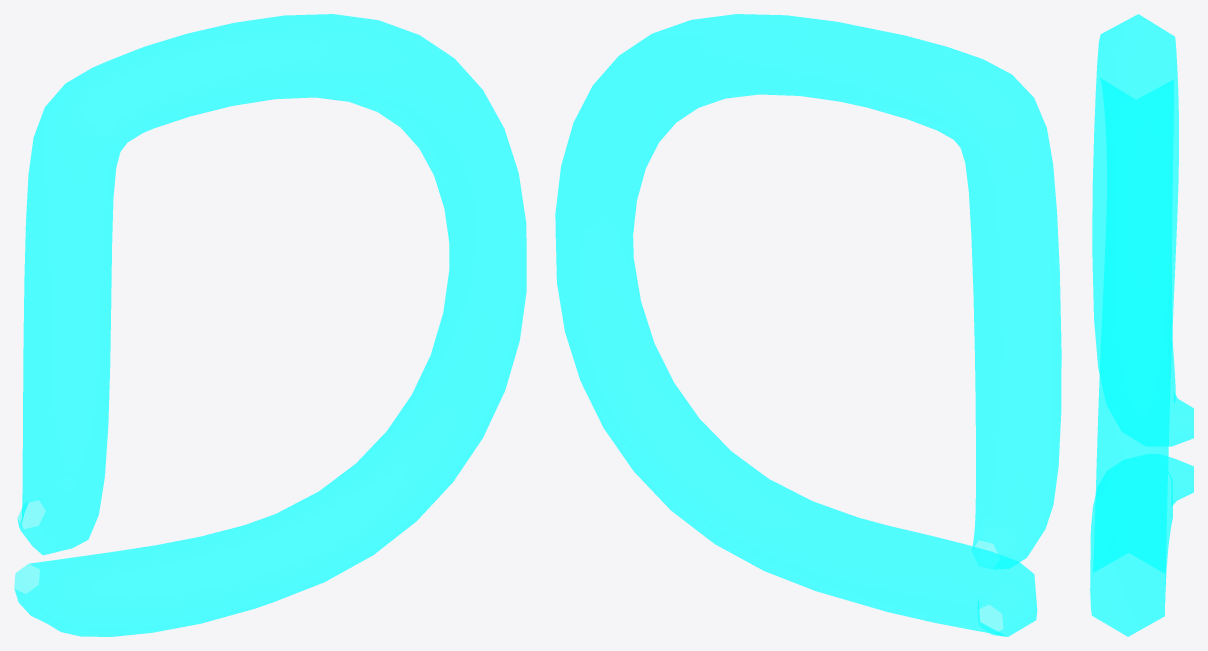
The picture shows the model from 3 angles, left to right: view 1: azimuth 30°, elevation 25°; view 2: azimuth 150°, elevation 25°; view 3: azimuth 270°, elevation 25°; orthographic projection. The views are drawn at different scales.
Visible parts, largest first — view 1: neon_letter_d.001_135; view 2: neon_letter_d.001_135; view 3: neon_letter_d.001_135.
Part boxes in pixels (bbox=[...]): neon_letter_d.001_135: bbox=[14, 14, 526, 636]; neon_letter_d.001_135: bbox=[555, 14, 1061, 636]; neon_letter_d.001_135: bbox=[1090, 14, 1193, 636].
Size of the model in its own units: 0.7971 by 0.8863 by 0.1549.
